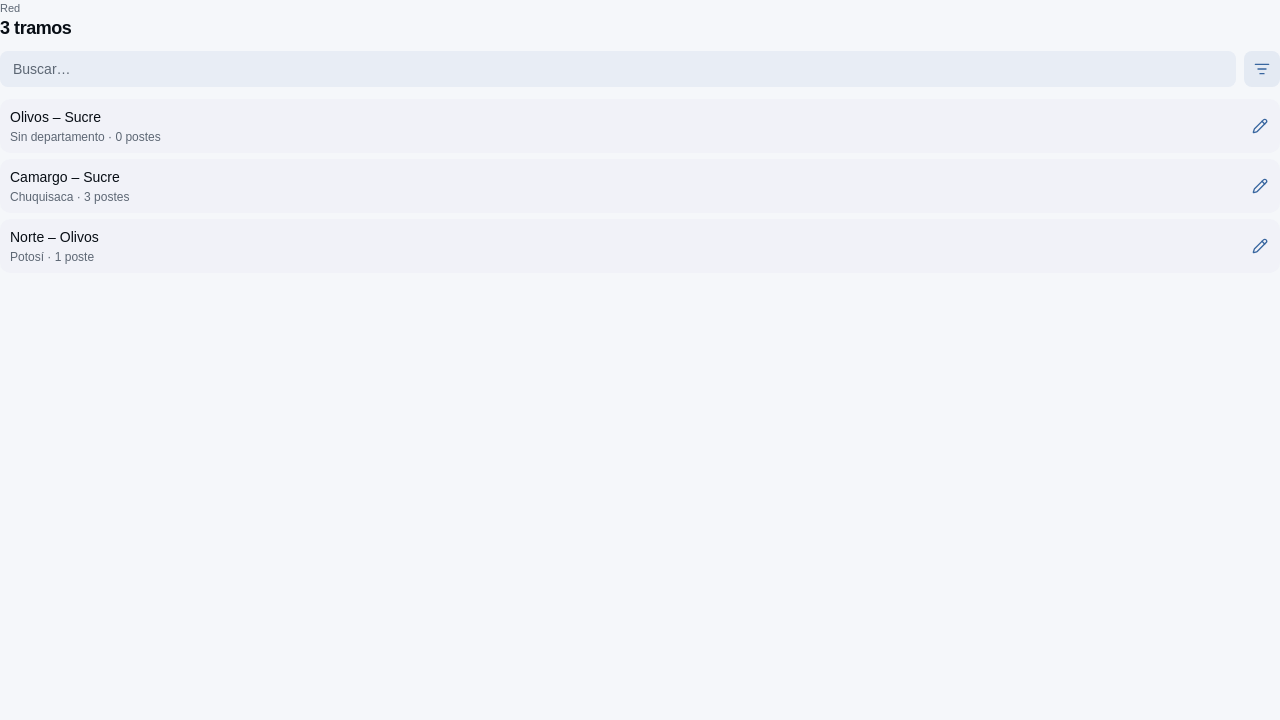
Test case: the list › says the filter is part of why nothing is listed
This screenshot has width=1280, height=720.
Click the button named "Filtros": (1262, 69) [1244, 51, 1279, 87]
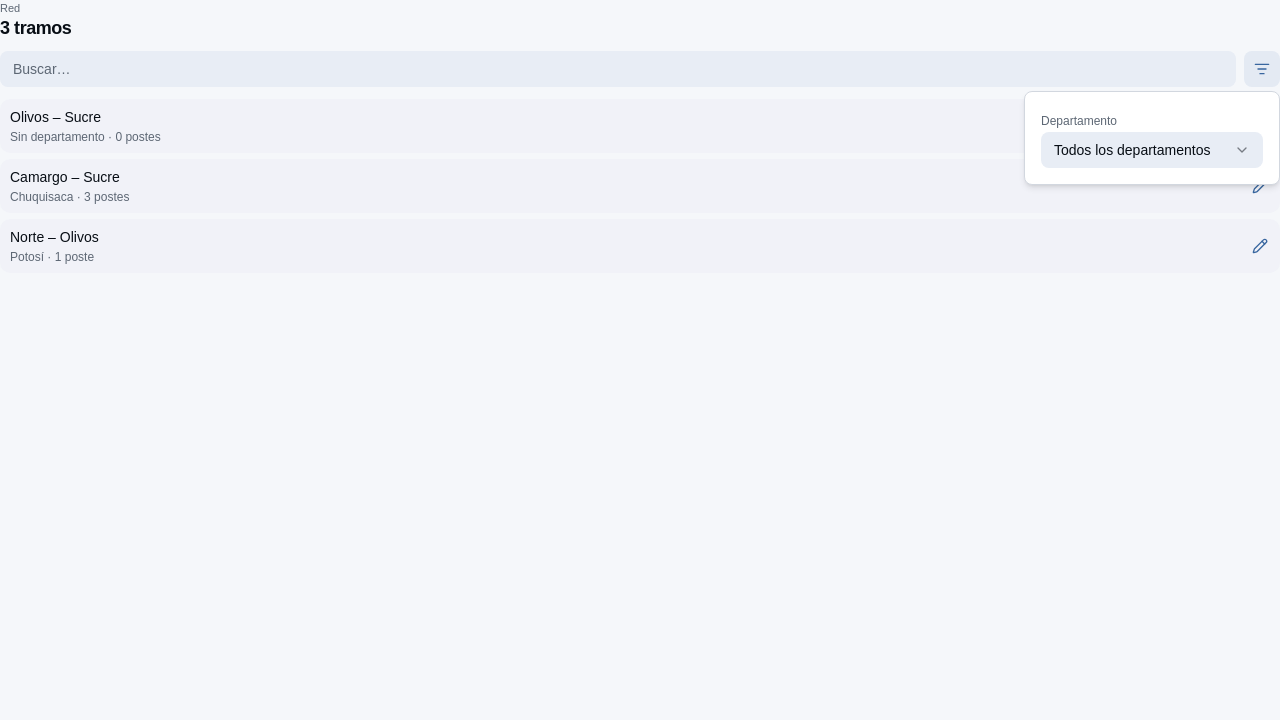
Click the dropdown named "Filtrar por departamento": (1152, 150) [1041, 132, 1263, 168]
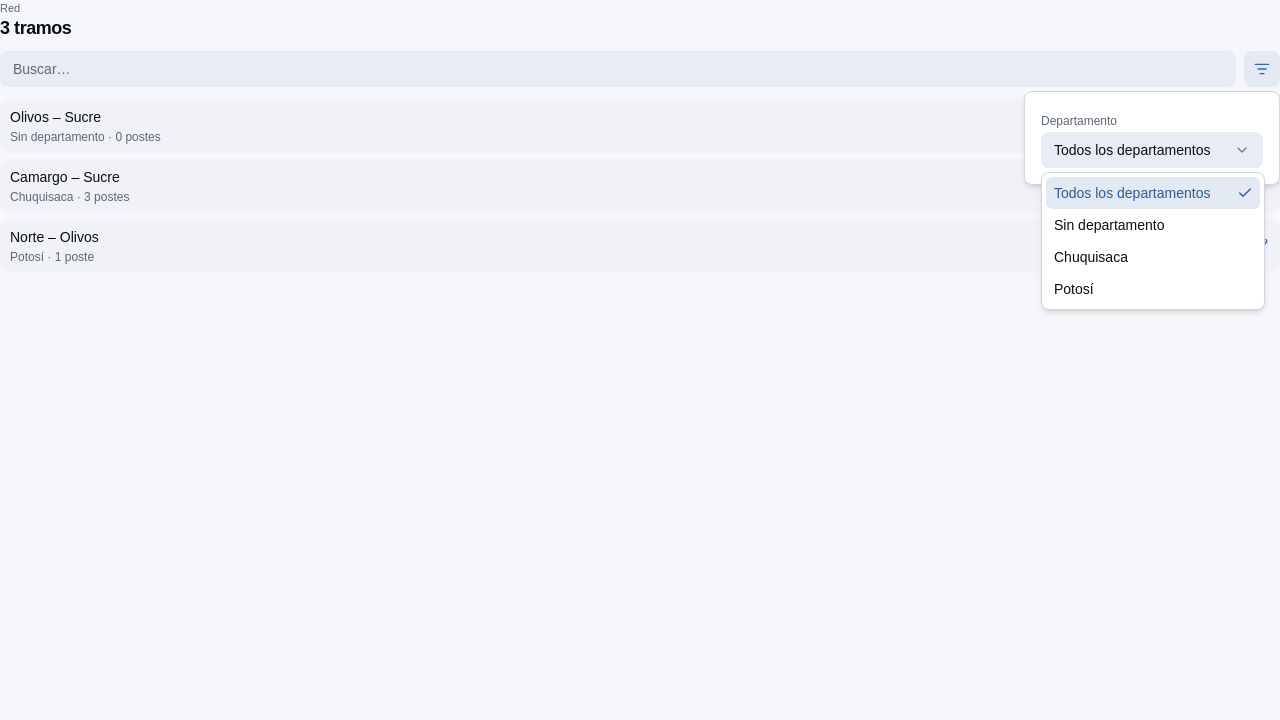
Click the option "Chuquisaca": (1091, 257) [1054, 249, 1128, 265]
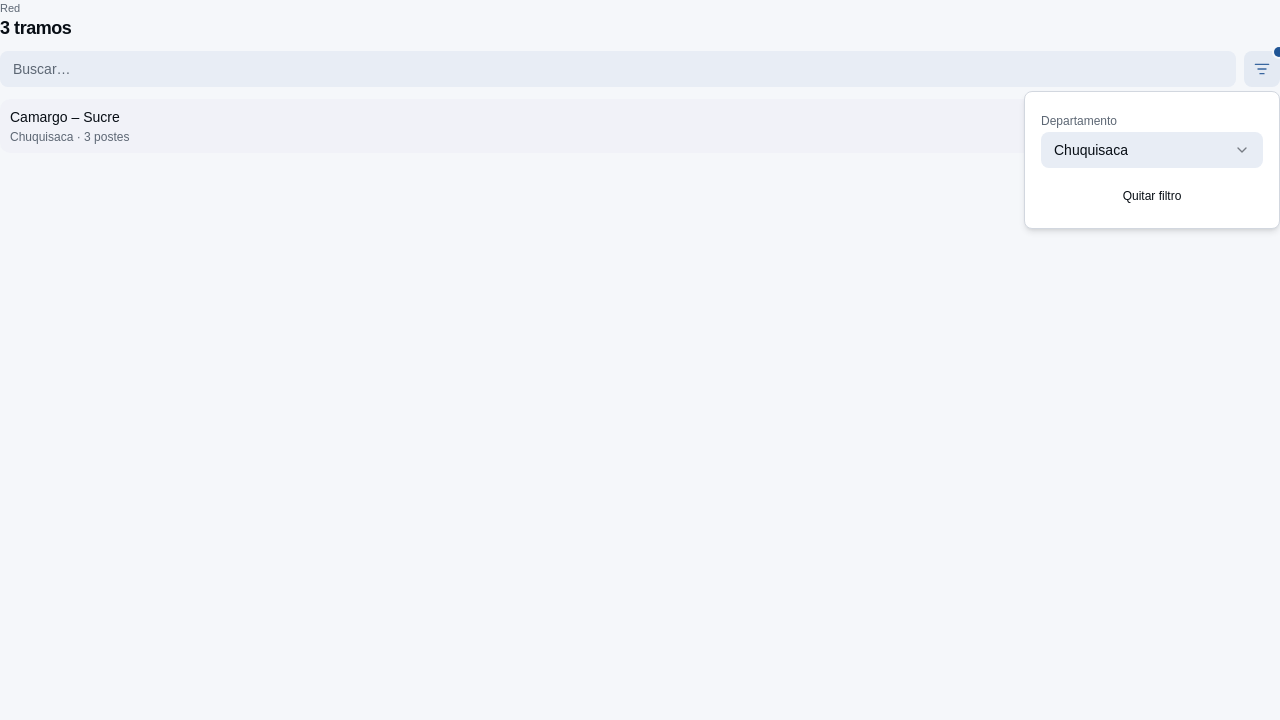
Press Escape
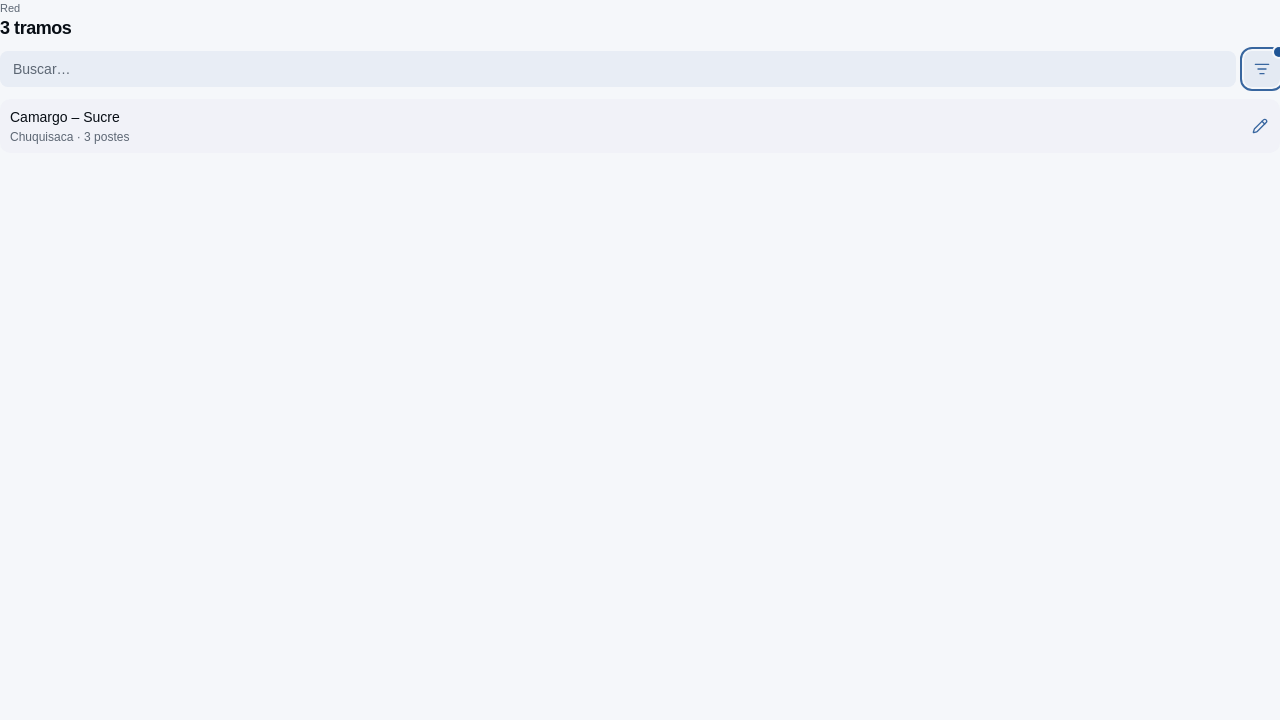
In the field named "Buscar por nombre": (618, 69) [0, 51, 1236, 87], type "olivos"
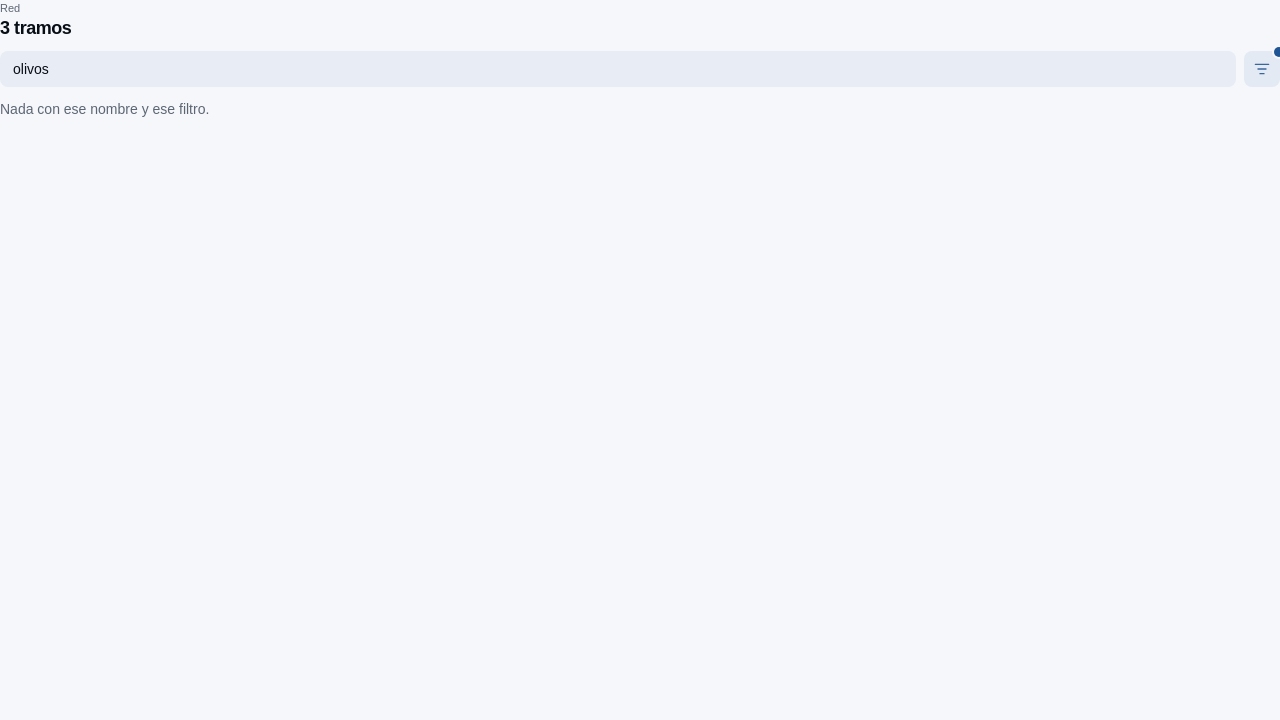
Check: the text "Nada con ese nombre y ese filtro." is shown, box [0, 101, 209, 117]
